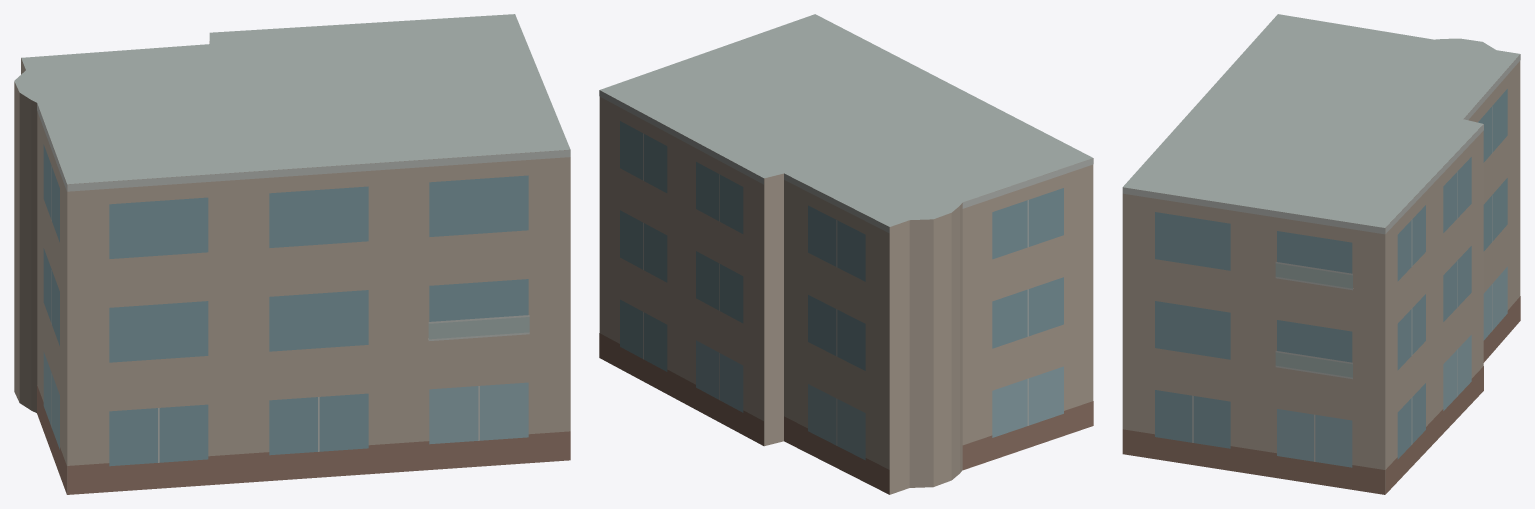
Rendered from survey-upis-32940954.glb.
The picture shows the model from 3 angles, left to right: view 1: azimuth 30°, elevation 25°; view 2: azimuth 150°, elevation 25°; view 3: azimuth 270°, elevation 25°; orthographic projection. The views are drawn at different scales.
Parts seen in each view (by area): view 1: survey-upis-32940954.tmp; view 2: survey-upis-32940954.tmp; view 3: survey-upis-32940954.tmp.
Part boxes in pixels (left/top/right/bottom): survey-upis-32940954.tmp: left=14, top=14, right=570, bottom=494; survey-upis-32940954.tmp: left=599, top=14, right=1093, bottom=494; survey-upis-32940954.tmp: left=1122, top=14, right=1520, bottom=494.
Size of the model in its own units: 17.55 by 10.2 by 13.79.
